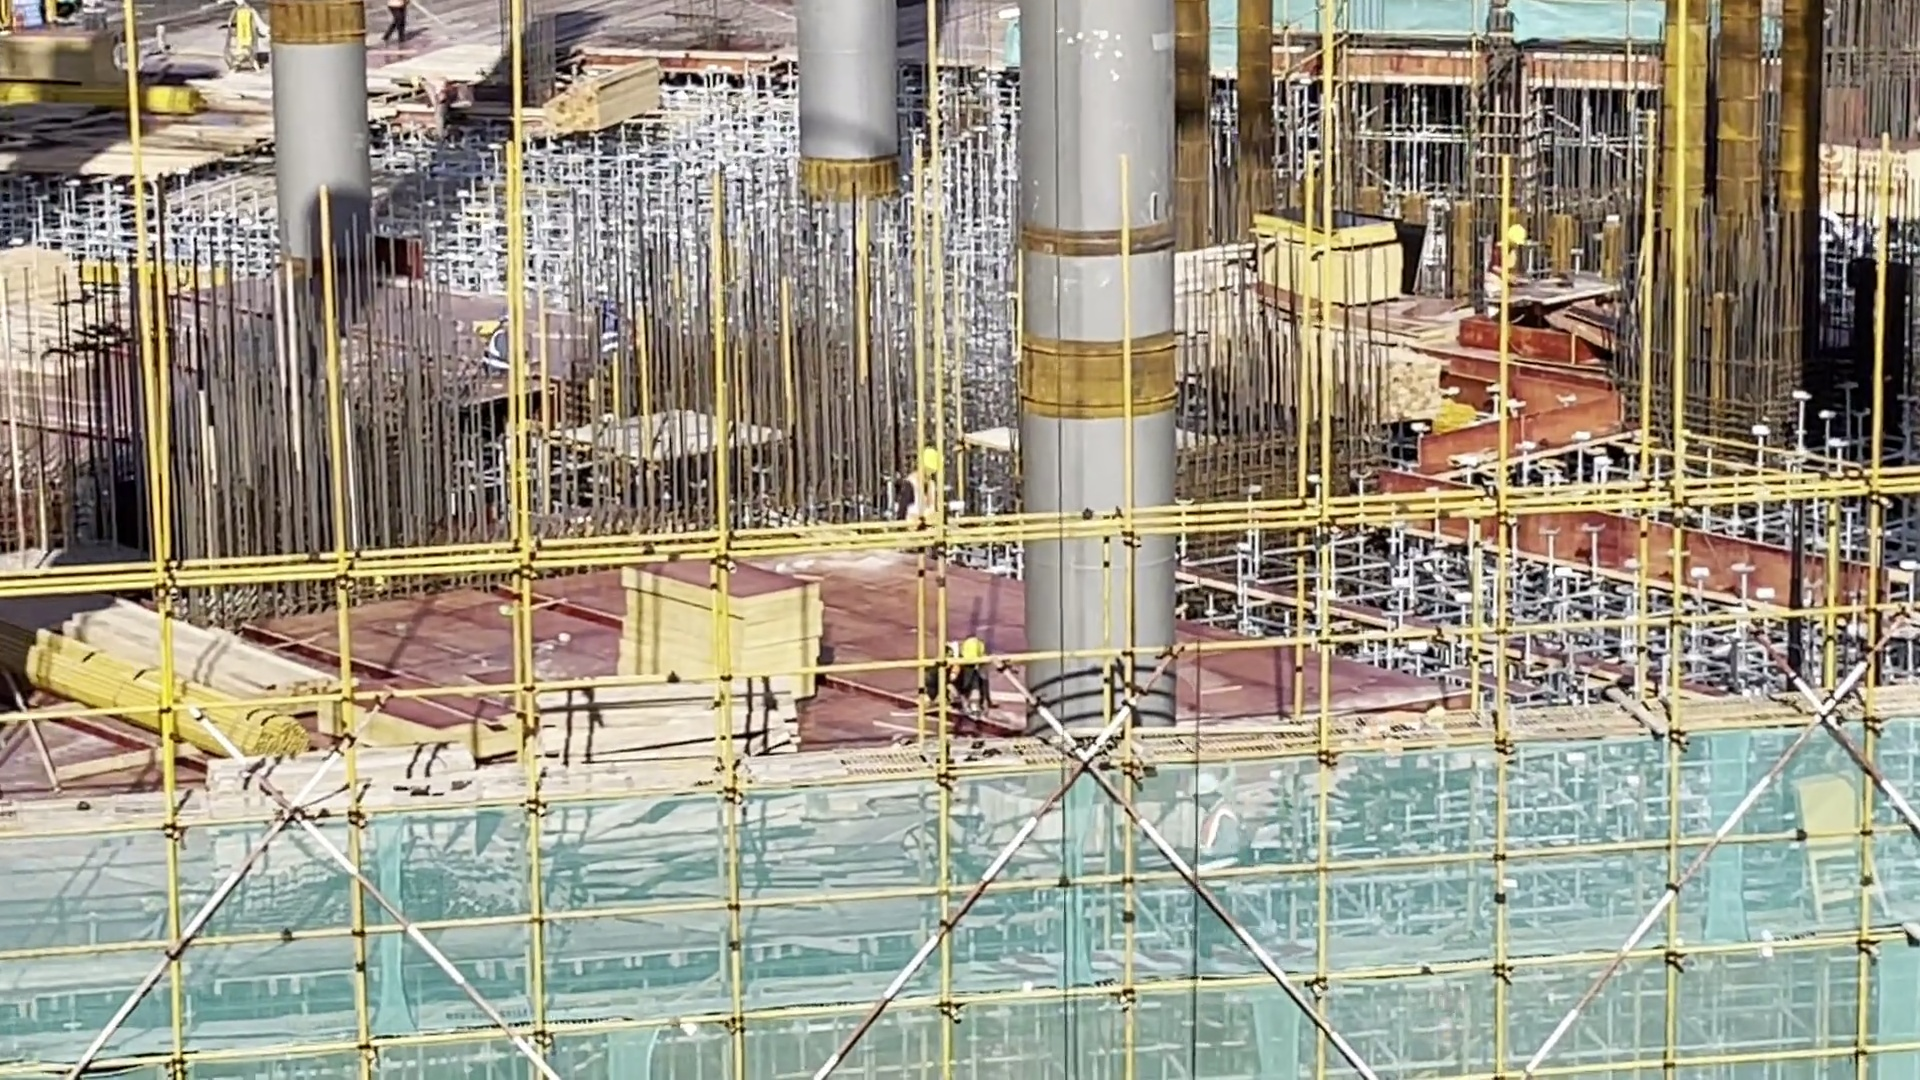board: (613, 547, 829, 700)
person: (925, 635, 994, 722), (890, 441, 948, 534)
wood: (39, 616, 335, 757), (542, 684, 794, 753), (1369, 341, 1448, 422), (540, 74, 609, 133)
